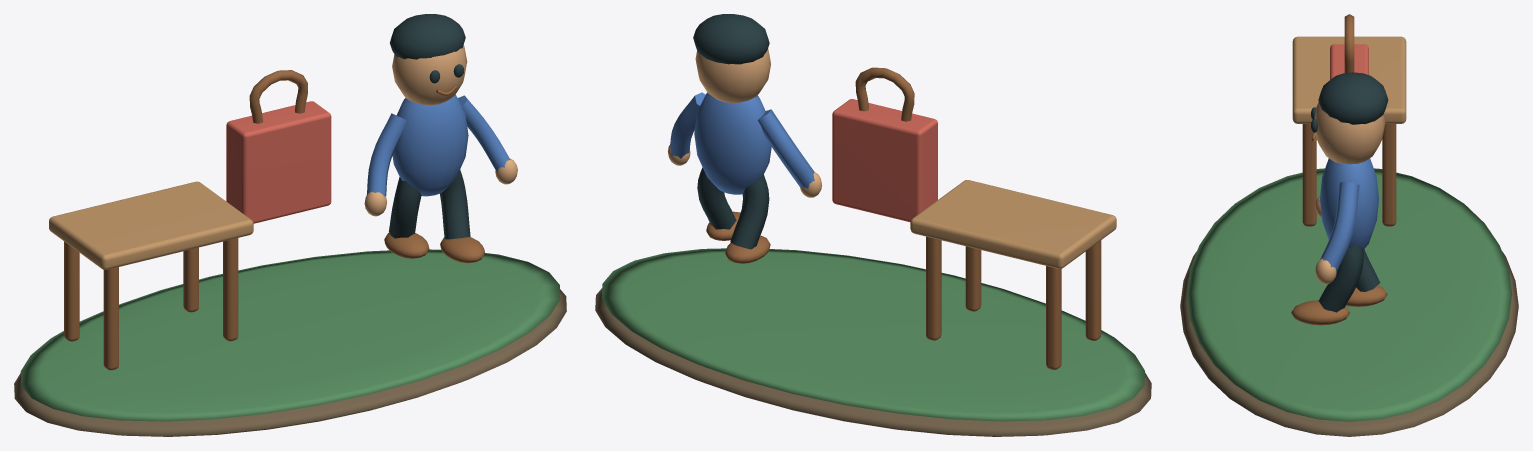
The model's file is shop-salesperson.glb.
3 renders of one model, left to right at view 1: azimuth 30°, elevation 25°; view 2: azimuth 150°, elevation 25°; view 3: azimuth 270°, elevation 25°, orthographic.
Parts seen in each view (by area): view 1: shop-salesperson_surface_01, shop-salesperson_surface_02, shop-salesperson_surface_04, shop-salesperson_surface_00, shop-salesperson_surface_03, shop-salesperson_surface_07, shop-salesperson_surface_06, shop-salesperson_surface_05; view 2: shop-salesperson_surface_01, shop-salesperson_surface_02, shop-salesperson_surface_04, shop-salesperson_surface_00, shop-salesperson_surface_07, shop-salesperson_surface_03, shop-salesperson_surface_06, shop-salesperson_surface_05; view 3: shop-salesperson_surface_01, shop-salesperson_surface_00, shop-salesperson_surface_02, shop-salesperson_surface_03, shop-salesperson_surface_06, shop-salesperson_surface_07, shop-salesperson_surface_05, shop-salesperson_surface_04.
Boxes of the visible parts, left/top/right/bottom form: shop-salesperson_surface_01: left=20, top=249, right=560, bottom=421; shop-salesperson_surface_02: left=49, top=181, right=253, bottom=269; shop-salesperson_surface_04: left=226, top=101, right=331, bottom=223; shop-salesperson_surface_00: left=14, top=289, right=566, bottom=436; shop-salesperson_surface_03: left=64, top=70, right=484, bottom=370; shop-salesperson_surface_07: left=366, top=95, right=510, bottom=196; shop-salesperson_surface_06: left=389, top=14, right=470, bottom=239; shop-salesperson_surface_05: left=364, top=45, right=517, bottom=216; shop-salesperson_surface_01: left=602, top=248, right=1144, bottom=421; shop-salesperson_surface_02: left=910, top=180, right=1116, bottom=268; shop-salesperson_surface_04: left=832, top=99, right=937, bottom=222; shop-salesperson_surface_00: left=595, top=288, right=1151, bottom=436; shop-salesperson_surface_07: left=670, top=92, right=814, bottom=194; shop-salesperson_surface_03: left=706, top=67, right=1101, bottom=369; shop-salesperson_surface_06: left=693, top=14, right=769, bottom=249; shop-salesperson_surface_05: left=668, top=48, right=821, bottom=197; shop-salesperson_surface_01: left=1187, top=168, right=1511, bottom=421; shop-salesperson_surface_00: left=1180, top=251, right=1518, bottom=436; shop-salesperson_surface_02: left=1292, top=36, right=1406, bottom=123; shop-salesperson_surface_03: left=1291, top=14, right=1396, bottom=325; shop-salesperson_surface_06: left=1311, top=72, right=1388, bottom=312; shop-salesperson_surface_07: left=1319, top=158, right=1378, bottom=272; shop-salesperson_surface_05: left=1314, top=102, right=1385, bottom=284; shop-salesperson_surface_04: left=1330, top=44, right=1368, bottom=79.
Size of the model in its own units: 4.56 by 2.55 by 2.5.
